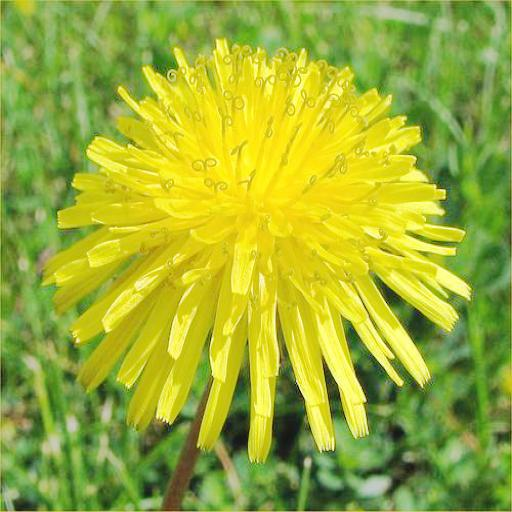dandelion: (58, 40, 466, 457)
